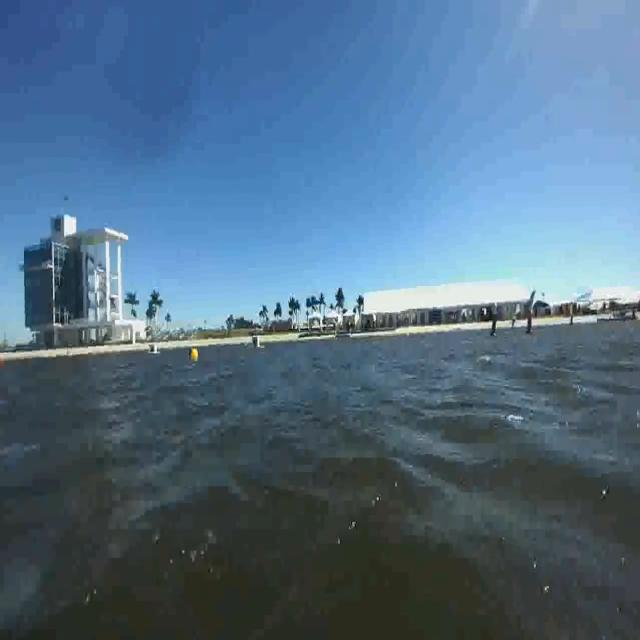yellow-buoy: (190, 347, 198, 363)
